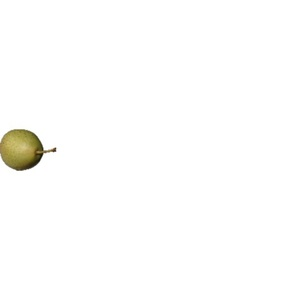pera: (1, 128, 58, 171)
